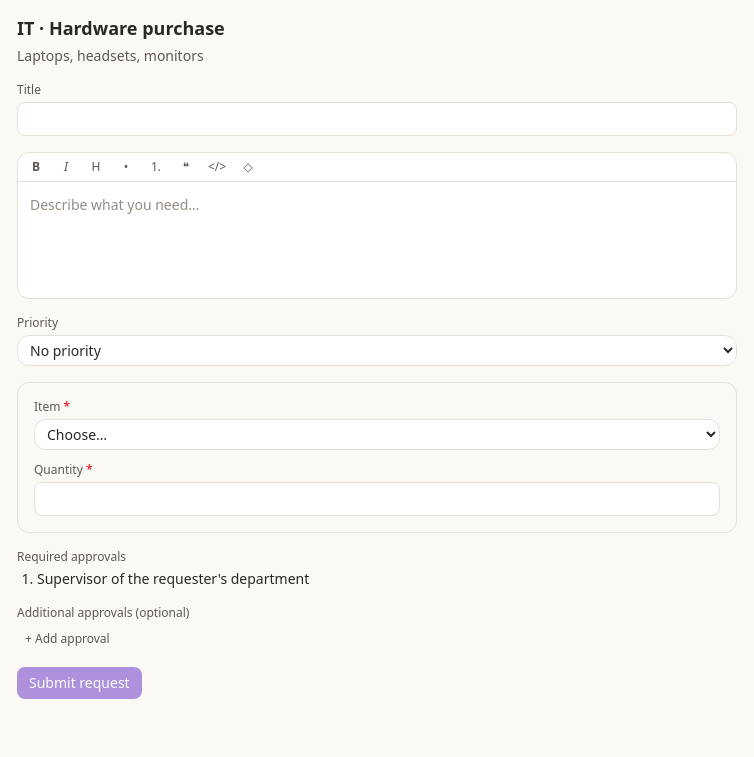
NewRequestPage › shows the form and the required approvals, and checks answers before sending
Expected: the heading "IT · Hardware purchase" is shown, [17, 16, 225, 40]
Expected: the element "Required approvals" shows "Supervisor of the requester's department", [37, 569, 309, 588]
Type "Headsets" into the field labelled "Title" at point(377, 119), box [17, 102, 737, 136]
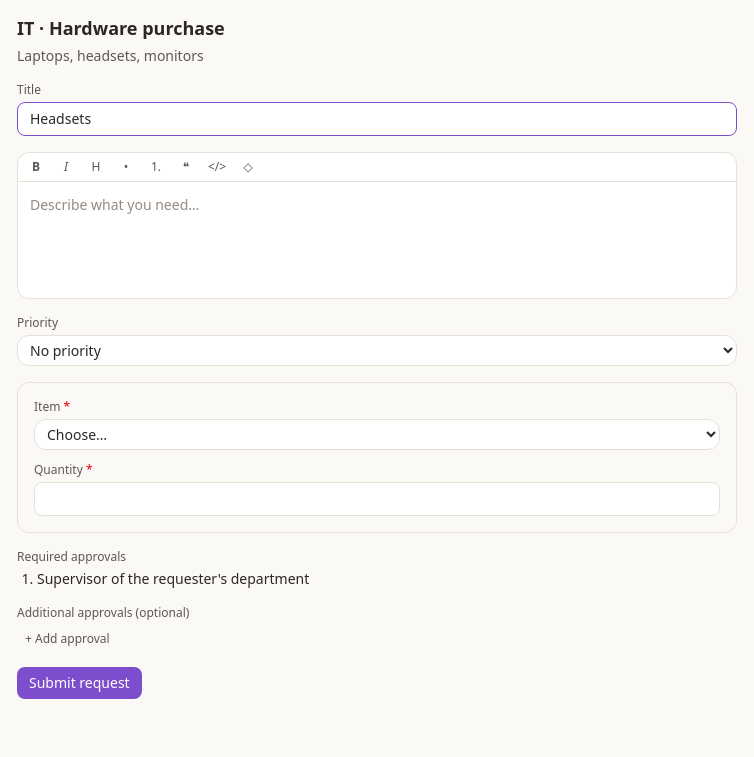
Click the button "Submit request" at point(79, 683), box [17, 667, 142, 699]
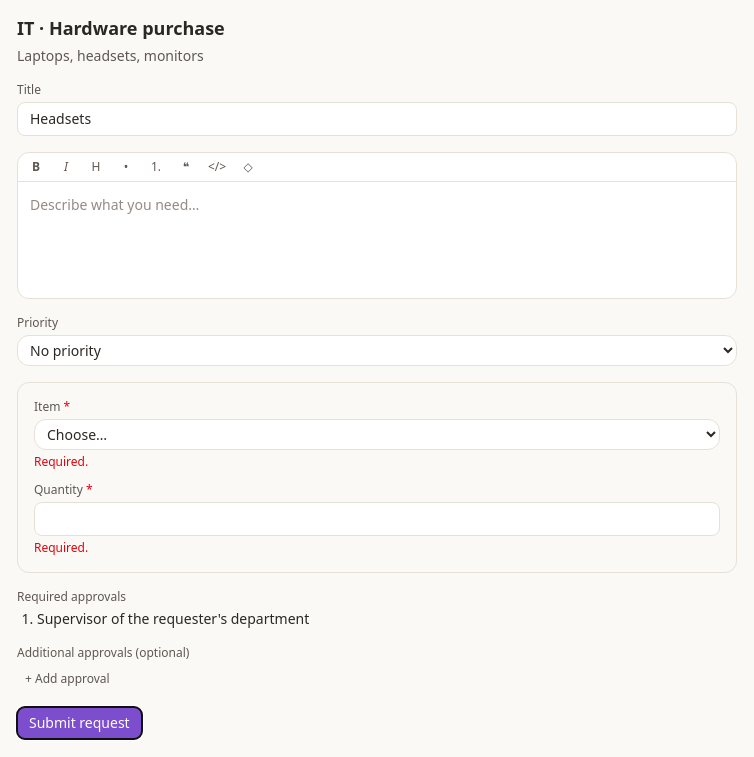
Now the text "Required." is shown 2 times, box [34, 453, 88, 470]; [34, 539, 88, 556]
